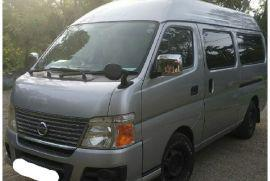Van: (11, 3, 268, 174)
